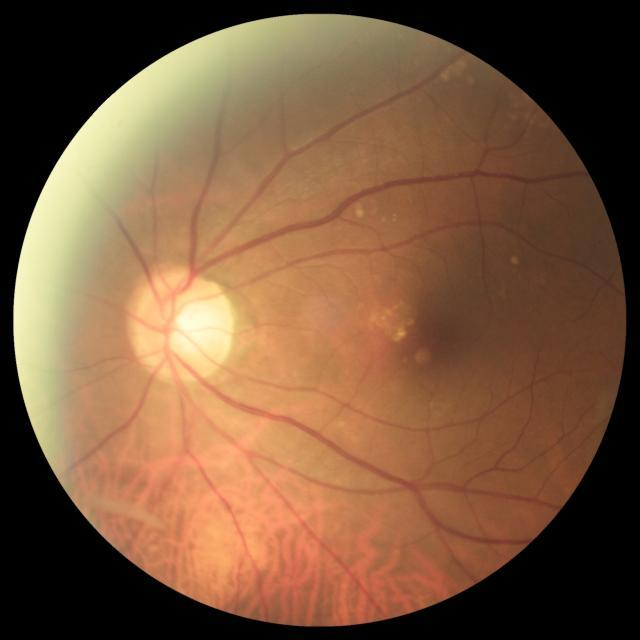OC: (161, 298, 215, 356)
OD: (130, 269, 234, 380)
